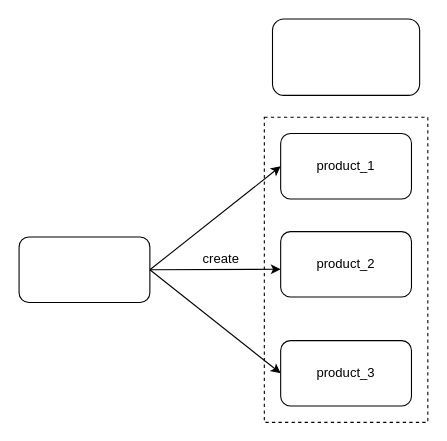
Some shapes in this 447 by 441 pixel diagram are drawn without their labels. Each missing label, with the centre of its shape:
"Factory" goes at (84,269).
"Product" goes at (345,56).
